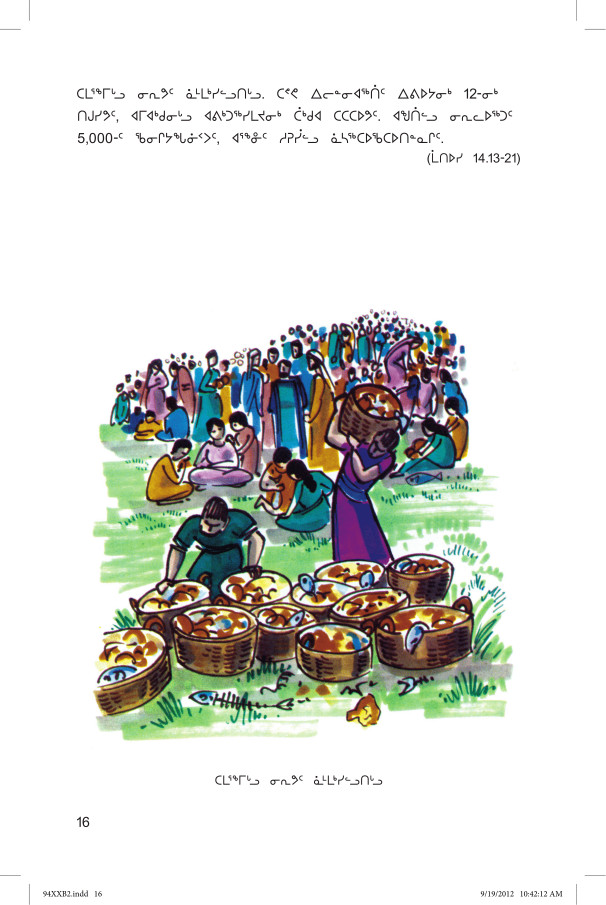inuktitut: (68, 79, 520, 149), (207, 766, 391, 789)
